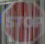Stop: (5, 1, 43, 43)
